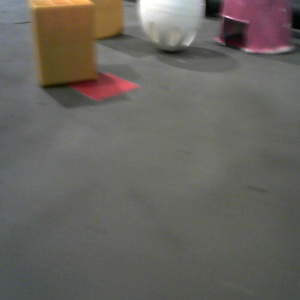right: (214, 1, 296, 56)
